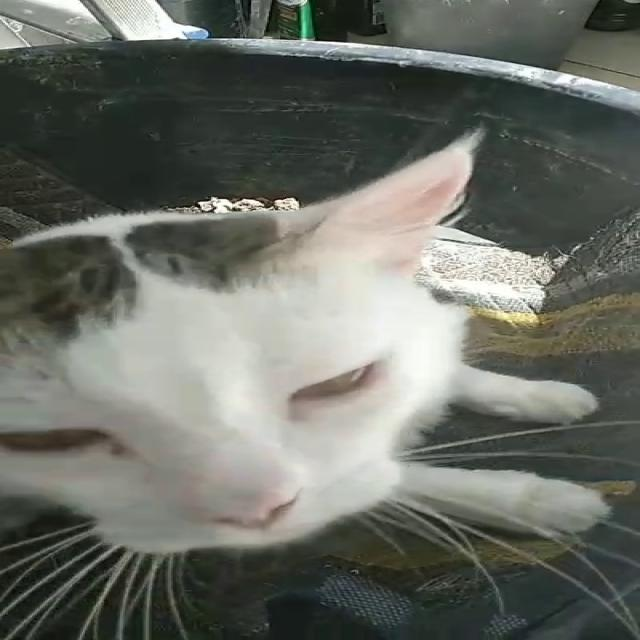Simba: (0, 105, 634, 597)
